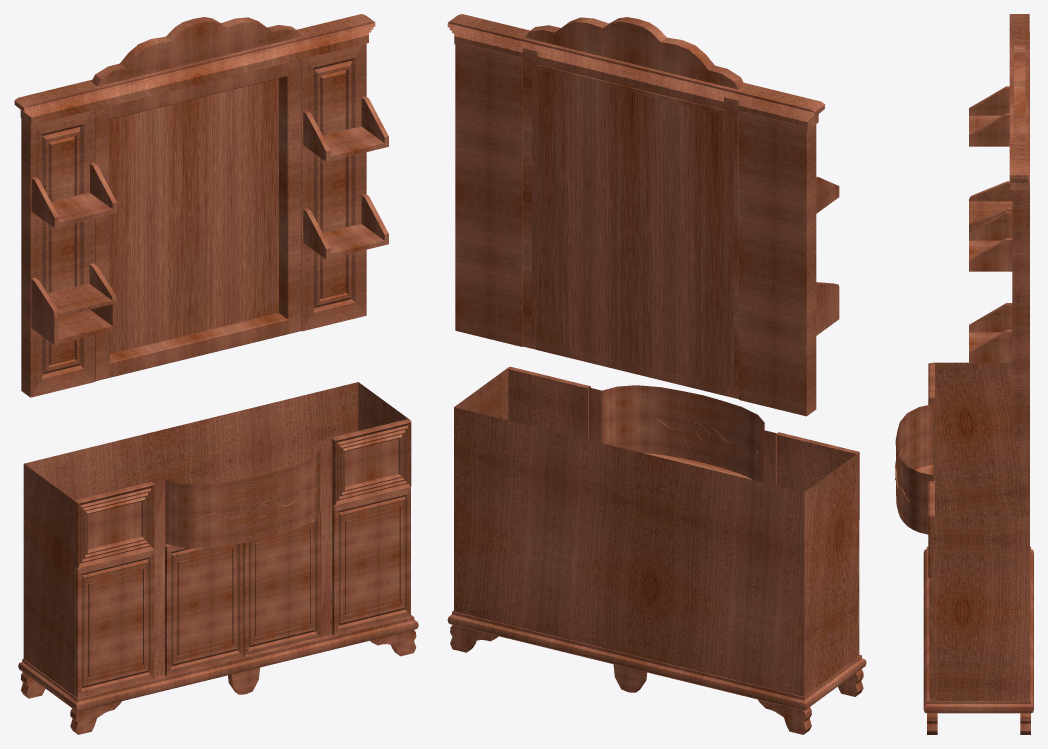
File: 608-1.pingmian101.obj
3 renders of one model, left to right at view 1: azimuth 30°, elevation 25°; view 2: azimuth 150°, elevation 25°; view 3: azimuth 270°, elevation 25°, orthographic. The views are drawn at different scales.
Visible parts, largest first — view 1: group1_polySurface324; view 2: group1_polySurface324; view 3: group1_polySurface324.
Part boxes in pixels (x1,y1,x2,y2): group1_polySurface324: (14,14,418,734); group1_polySurface324: (447,14,866,734); group1_polySurface324: (895,14,1033,734).
Bounding box in the file's own units: 157 × 273 × 57.18.
